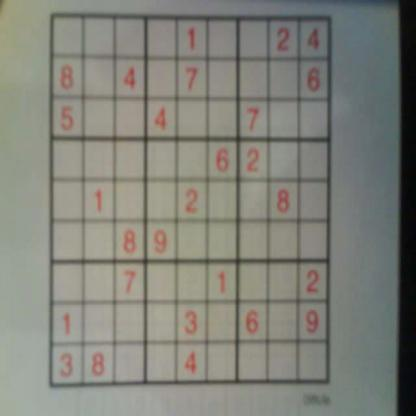sudoku: (47, 9, 336, 391)
